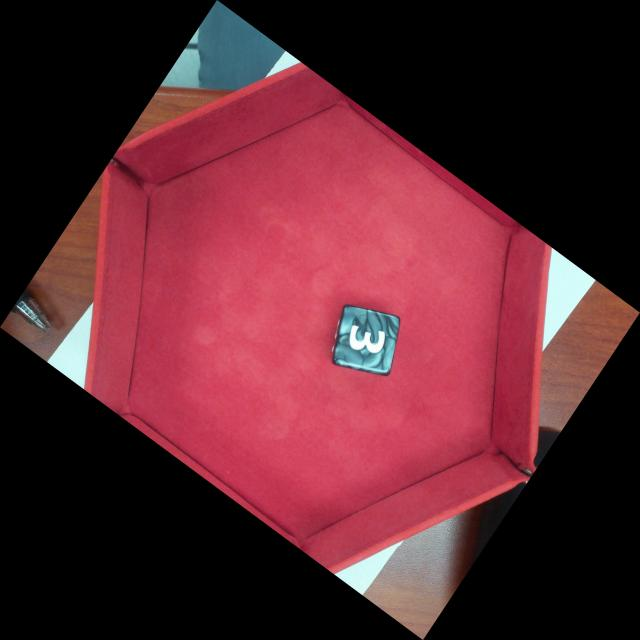dice: (332, 305, 401, 376)
